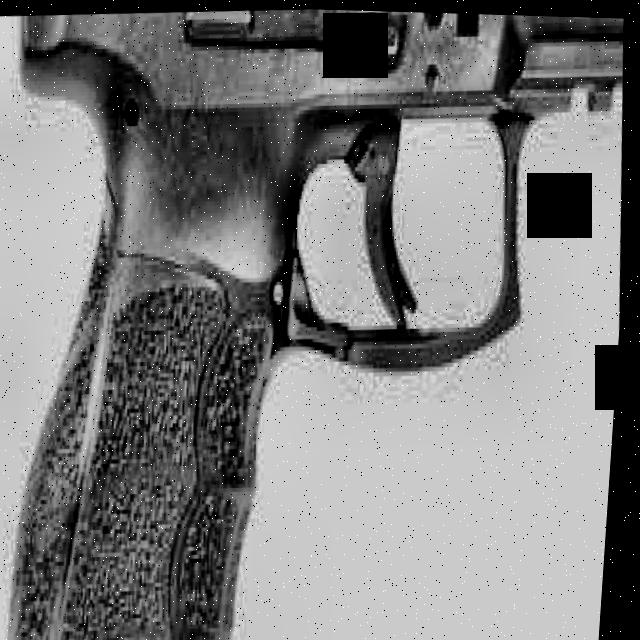Heckler - Koch -H-K-: (0, 0, 640, 640)
